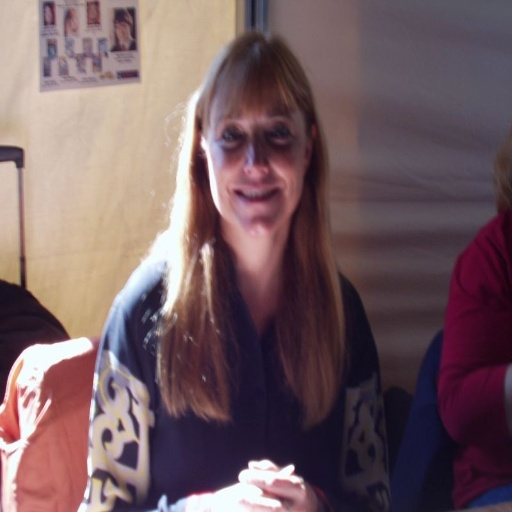hand: (238, 458, 320, 510)
